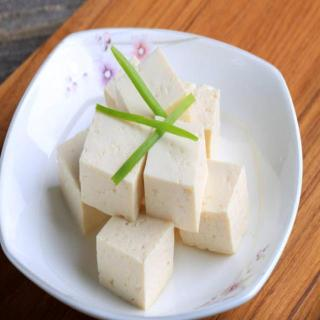Tahu: (48, 46, 255, 313)
